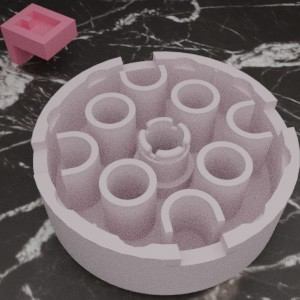lego: (31, 51, 300, 294), (0, 3, 77, 64)
